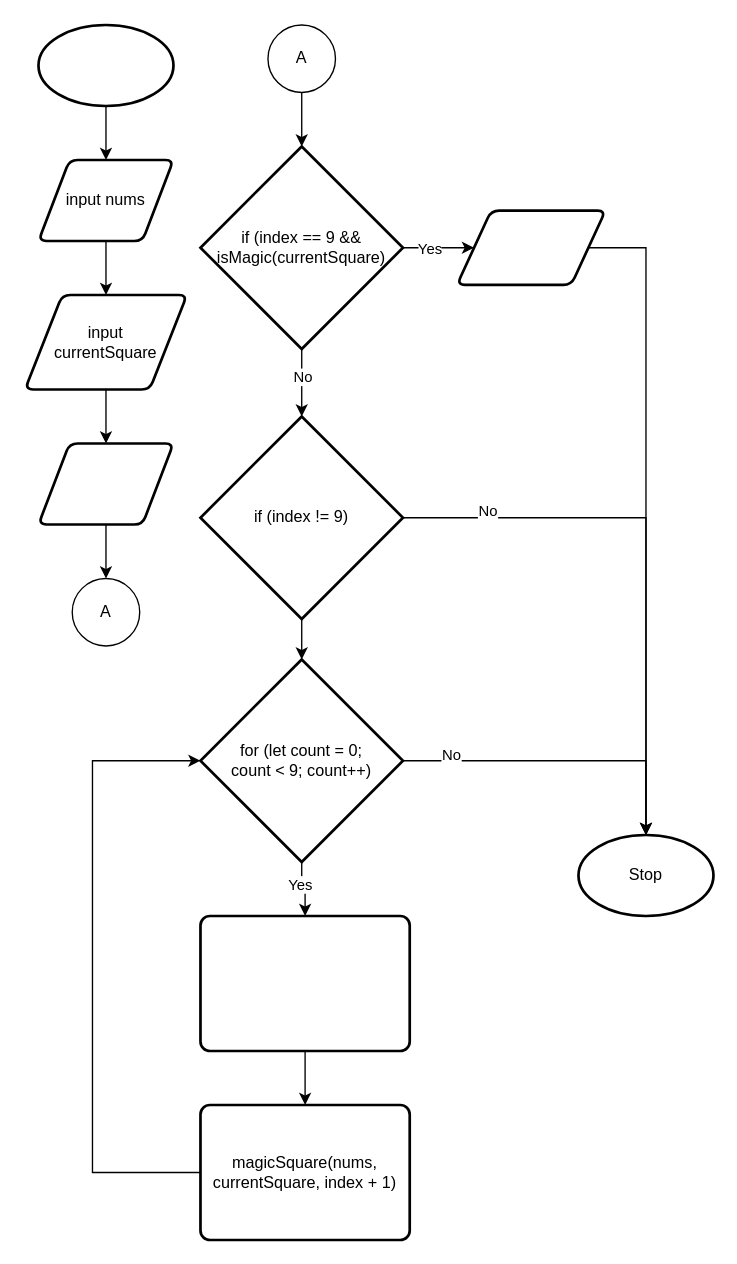
Image size: 737x1264. Some labels were removed from this diagram. The shapes that lost their labels are listed below. From the top down, each one's centre as x and y in pixels, then its label:
At point (105, 65): "Start".
At point (530, 247): "print currentSquare".
At point (105, 483): "input index".
At point (304, 983): "currentSquare[index] = nums[count]".
